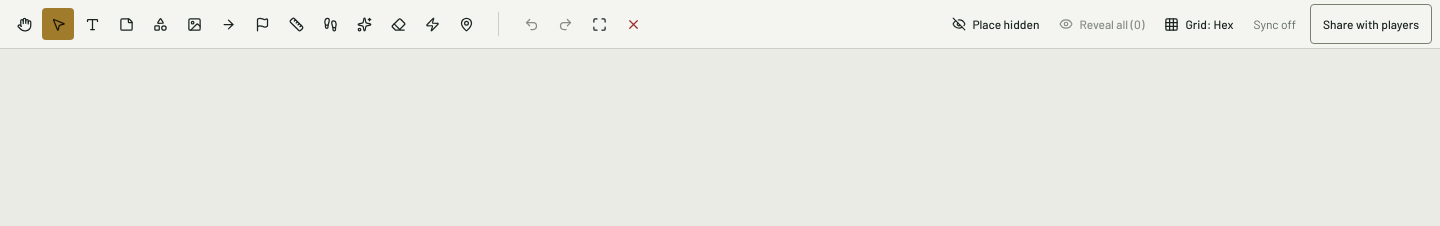
DmLocationToolbar › collapses grid controls into the popover (no inline sliders)
// Opening the popover reveals the controls.
Click the button titled "Grid settings" at (1199, 24), box [1156,4,1241,44]
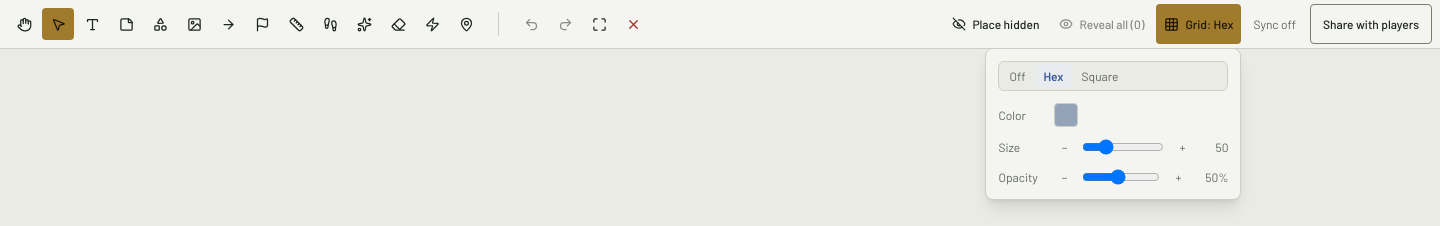
Result: the slider titled "Grid cell size" is shown at [1082,139,1164,155]
